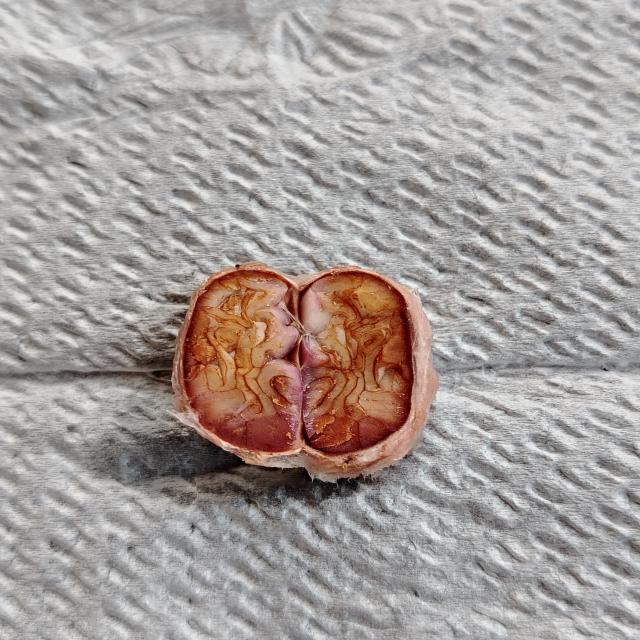Trinitario: (183, 268, 297, 453), (301, 270, 411, 455)
